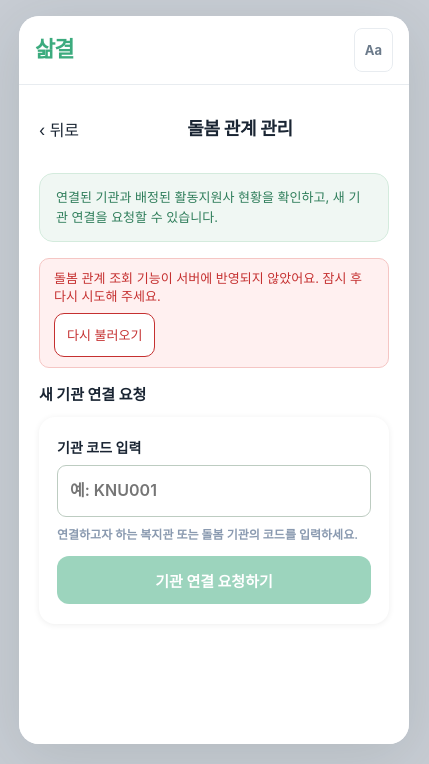
Test: CareRelationsPage › 관계 조회 실패 후에도 기관 연결 요청을 전송할 수 있다
The width and height of the screenshot is (429, 764).
Expected: the message "돌봄 관계 조회 기능이 서버에 반영되지 않았어요. 잠시 후 다시 시도해 주세요. 다시 불러오기" is shown, [39, 258, 389, 368]
Type "new002" into the field named "연결할 기관 코드" at point(214, 491), box [57, 465, 371, 517]
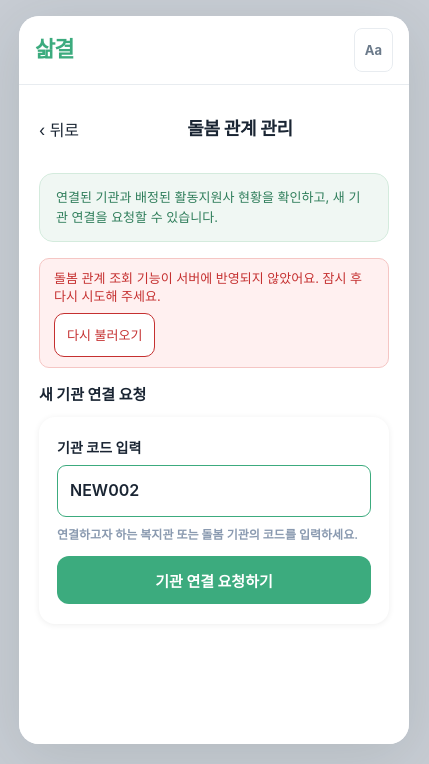
Click the button "기관 연결 요청하기" at point(214, 580), box [57, 556, 371, 604]
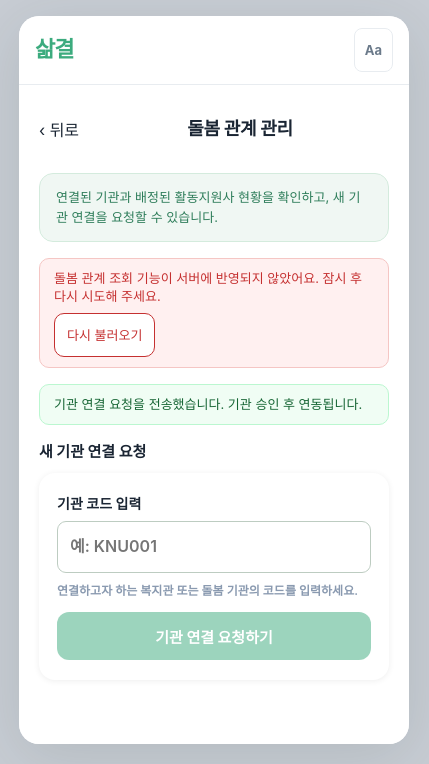
Expected: the field named "연결할 기관 코드" is shown, [57, 522, 371, 573]
Now the message "기관 연결 요청을 전송했습니다. 기관 승인 후 연동됩니다." is shown, box [39, 384, 389, 425]
